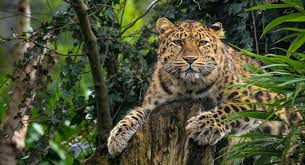amur_leopard: (117, 10, 285, 155)
